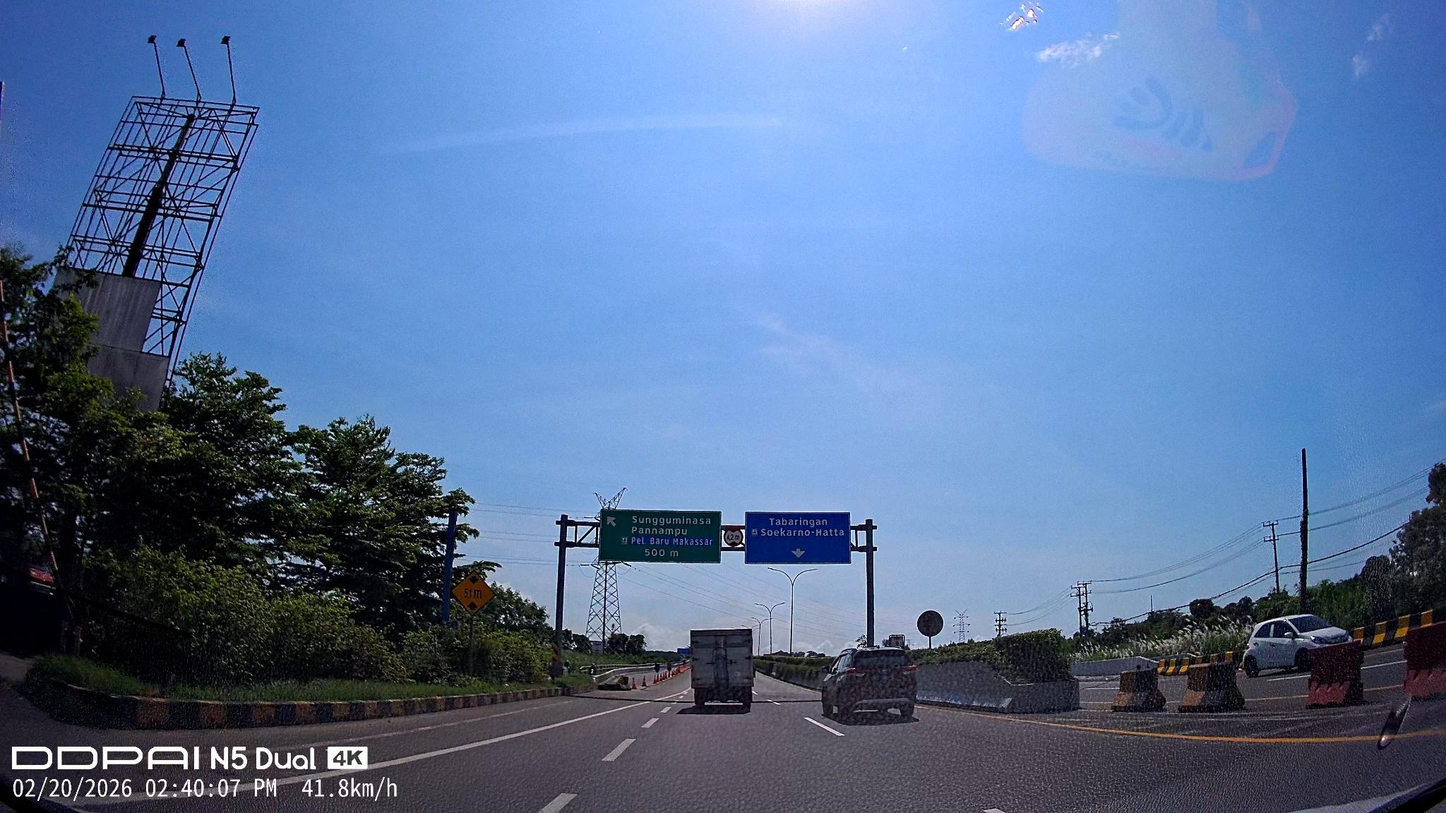rambu_teks: (598, 508, 722, 564), (745, 511, 851, 565)
